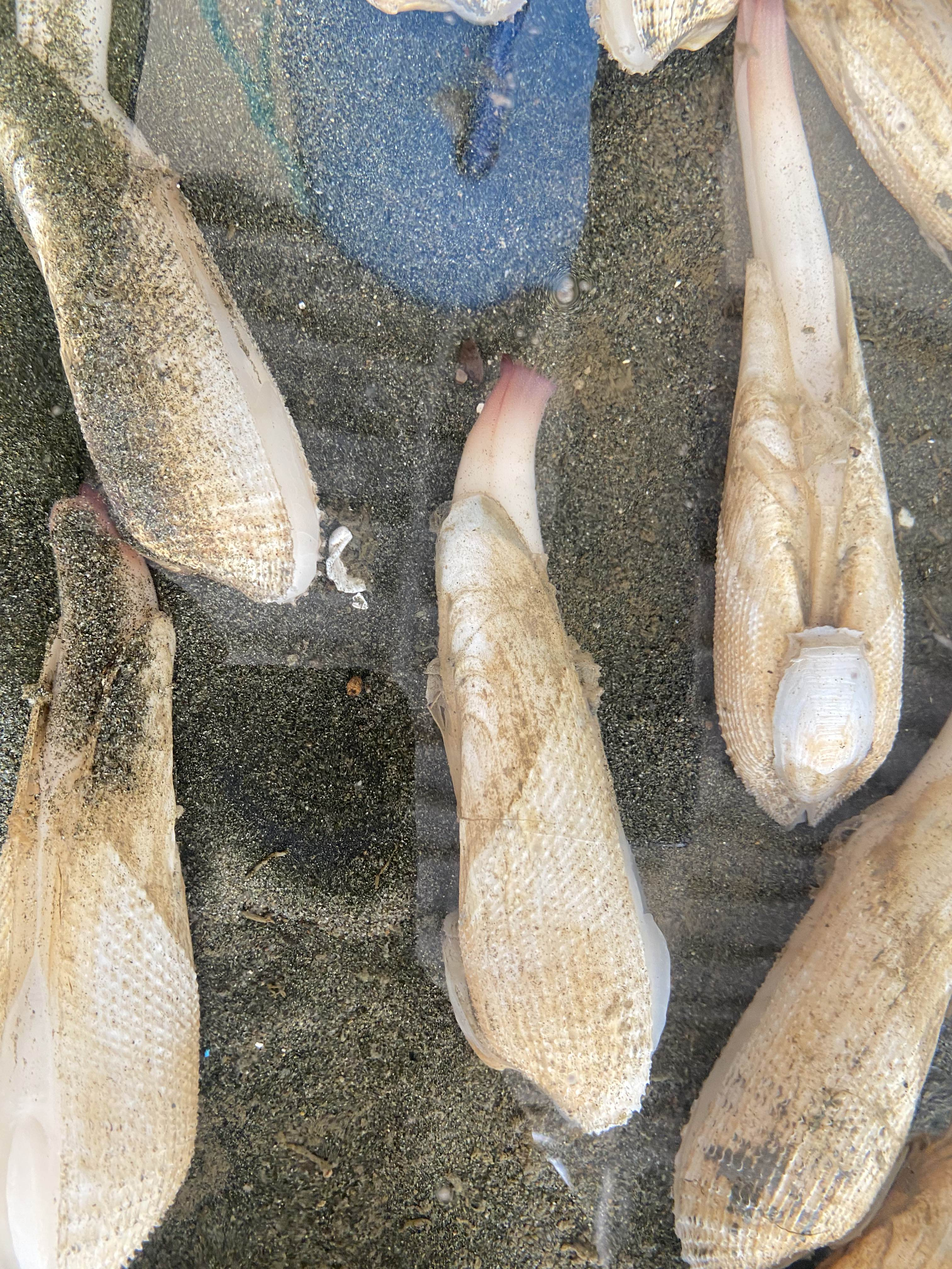Healthy: (428, 358, 669, 1132), (714, 0, 902, 824), (0, 491, 198, 1269), (50, 846, 198, 1269)
